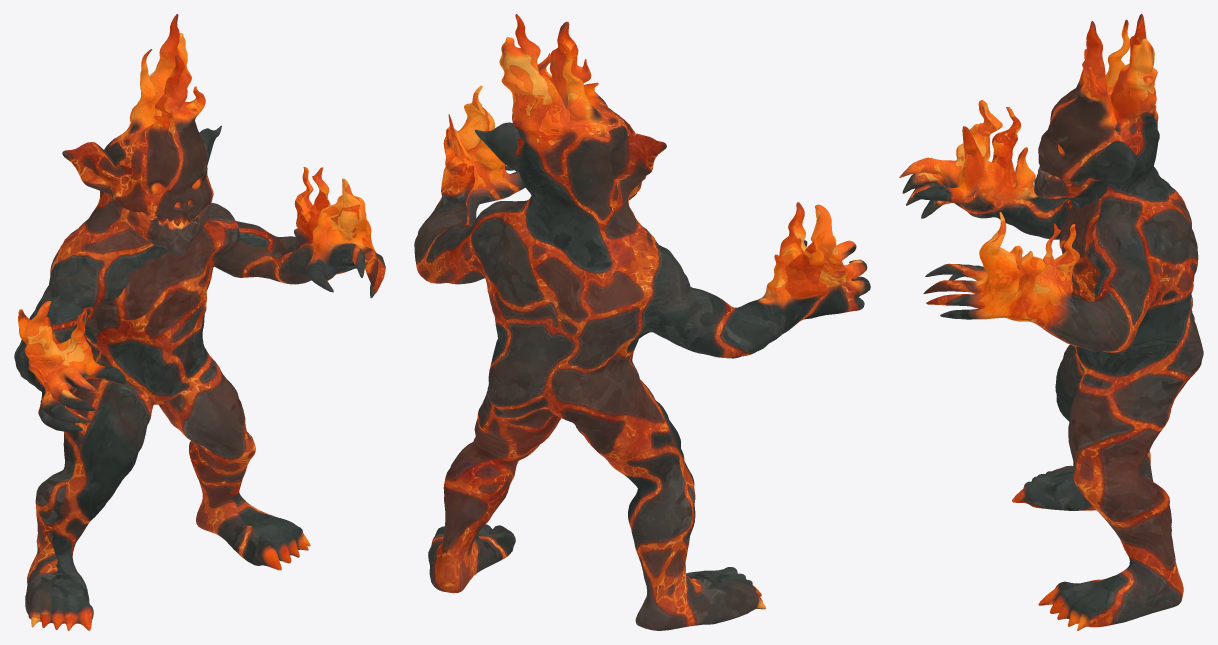
Rendered from MZ4250 - Magmin.glb.
The picture shows the model from 3 angles, left to right: view 1: azimuth 30°, elevation 25°; view 2: azimuth 150°, elevation 25°; view 3: azimuth 270°, elevation 25°; orthographic projection. The views are drawn at different scales.
Parts seen in each view (by area): view 1: default; view 2: default; view 3: default.
Part boxes in pixels (x1,y1,x2,y2): default: (14, 14, 385, 630); default: (414, 14, 870, 630); default: (899, 14, 1203, 630).
Bounding box in the file's own units: 0.5024 × 0.7235 × 0.353.
Materials: 1 (1 with a texture image).
